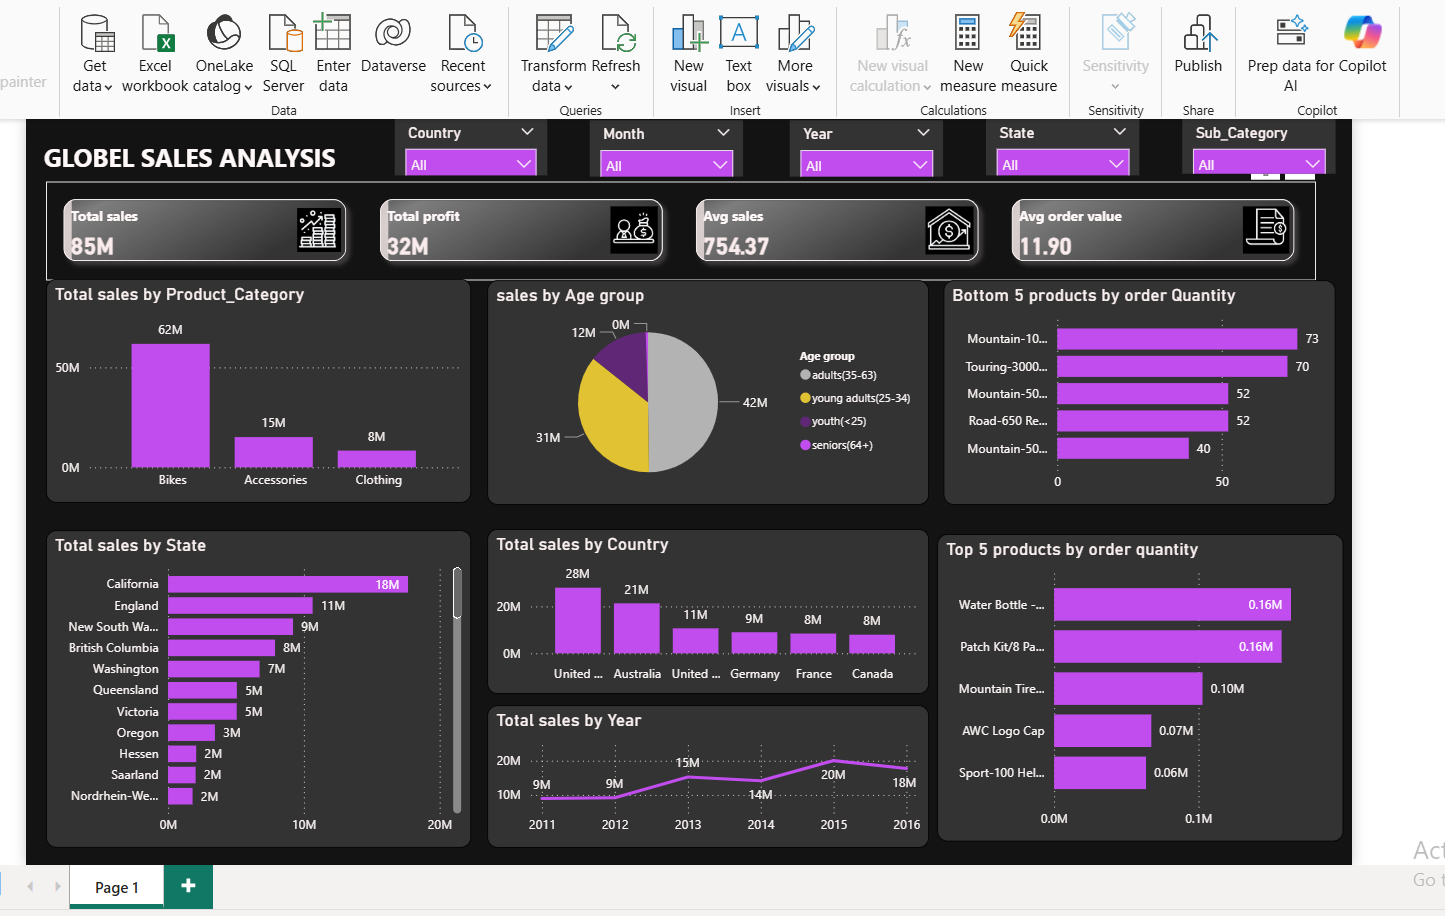

This screenshot's page, from the dashboard's own definition file:
{"tool":"powerbi","page":{"name":"Page 1","canvas":[1280,720],"ordinal":0},"visuals":[{"type":"cardVisual","fields":{"Data":["mesure.total sales","mesure.total profit","mesure.Avg sales","mesure.Avg order value"]},"box":[19.2,60.4,1225.4,94.7],"z":0},{"type":"columnChart","fields":{"Category":["sales_data.Product_Category"],"Y":["mesure.Total sales"]},"box":[19.3,154.4,410.2,216],"z":1000},{"type":"barChart","title":"Bottom 5 products by order Quantity","fields":{"Category":["sales_data.Product"],"Y":["Sum(sales_data.Order_Quantity)"]},"box":[885.1,155.1,378.7,216.8],"z":2000},{"type":"barChart","title":"Top 5 products by order quantity","fields":{"Category":["sales_data.Product"],"Y":["Sum(sales_data.Order_Quantity)"]},"box":[879.5,400.5,392.1,296.8],"z":3000},{"type":"barChart","fields":{"Category":["sales_data.State"],"Y":["mesure.Total sales"]},"box":[19.3,396.9,410.2,306.4],"z":4000},{"type":"pieChart","title":" sales by Age group","fields":{"Category":["sales_data.Age group"],"Y":["mesure.Total sales"]},"box":[444.6,155.1,426.8,216.8],"z":5000},{"type":"lineChart","fields":{"Category":["sales_data.Date.Variation.Date Hierarchy.Year"],"Y":["mesure.Total sales"]},"box":[444.6,565.4,426.8,137.2],"z":6000},{"type":"columnChart","fields":{"Category":["sales_data.Country"],"Y":["mesure.Total sales"]},"box":[444.6,395.2,426.8,159.2],"z":7000},{"type":"textbox","box":[12.1,15.7,329.4,50.7],"z":8000},{"type":"slicer","fields":{"Values":["sales_data.Month"]},"box":[544.1,1.2,148.4,54.3],"z":9000},{"type":"slicer","fields":{"Values":["sales_data.Sub_Category"]},"box":[1116,0,148.4,53.1],"z":10000},{"type":"slicer","fields":{"Values":["sales_data.State"]},"box":[926.5,0,148.4,54.3],"z":11000},{"type":"slicer","fields":{"Values":["sales_data.Year"]},"box":[737.1,1.2,148.4,54.3],"z":12000},{"type":"slicer","fields":{"Values":["sales_data.Country"]},"box":[355.9,0,147.2,54.3],"z":13000}]}

Visuals, with their boxes on the page's 1280x720 design canvas (x1, y1, x2, y2). These are canvas units, not pixel positions in the 1445x916 screenshot, which may show the page scaled, cropped or inside an application window:
cardVisual - mesure.total sales x mesure.total profit: [19,60,1245,155]
columnChart - sales_data.Product_Category x mesure.Total sales: [19,154,430,370]
"Bottom 5 products by order Quantity" barChart: [885,155,1264,372]
"Top 5 products by order quantity" barChart: [880,400,1272,697]
barChart - sales_data.State x mesure.Total sales: [19,397,430,703]
" sales by Age group" pieChart: [445,155,871,372]
lineChart - sales_data.Date.Variation.Date Hierarchy.Year x mesure.Total sales: [445,565,871,703]
columnChart - sales_data.Country x mesure.Total sales: [445,395,871,554]
textbox: [12,16,342,66]
slicer - sales_data.Month: [544,1,692,56]
slicer - sales_data.Sub_Category: [1116,0,1264,53]
slicer - sales_data.State: [926,0,1075,54]
slicer - sales_data.Year: [737,1,886,56]
slicer - sales_data.Country: [356,0,503,54]
